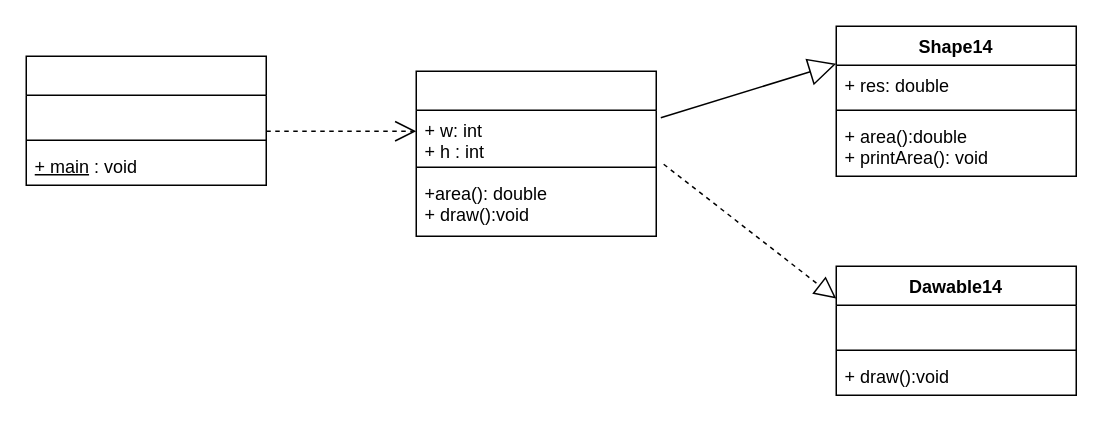
Image size: 1118x438. Some labels were removed from this diagram. Here are the shapes that lost their labels. From the top down, the box of each, then its label:
(25, 55, 266, 185): Ch0417Ex14
(415, 70, 656, 236): Rectangle14
